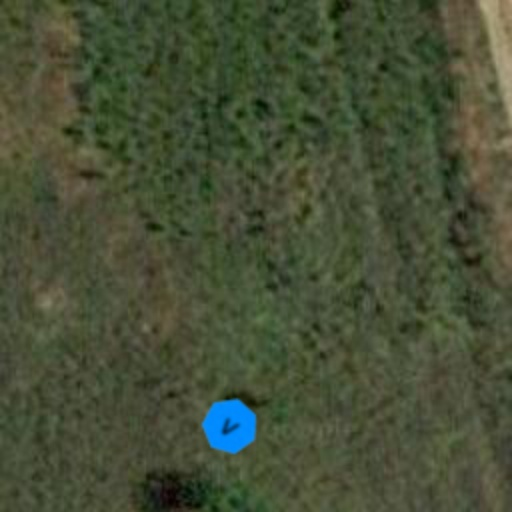heptagon: (190, 386, 270, 466)
